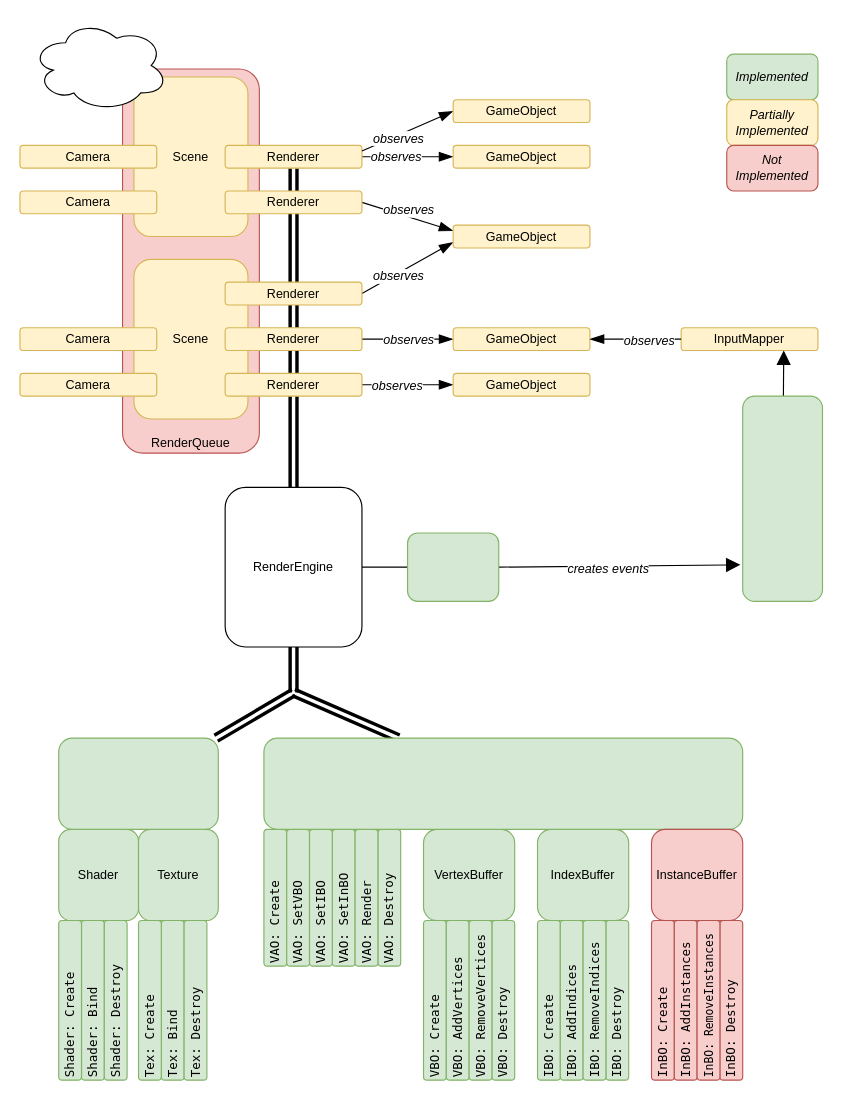
Some shapes in this 842 by 1100 pixel diagram are drawn without their labels. Here are the shapes that lost their labels. From the top down, the centre of each, then its label:
point (99, 65): Sort by scene Sort by material for performance
point (782, 498): InputQueue
point (452, 566): GLWindow
point (138, 783): Material
point (503, 783): VertexArray
